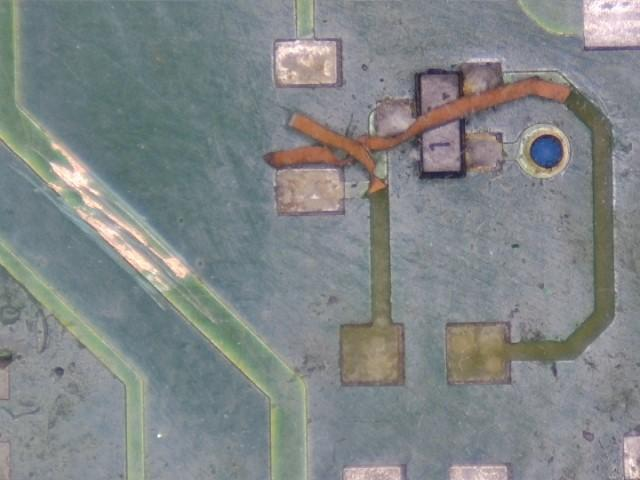pcb_defect: (261, 76, 615, 386), (289, 112, 404, 387), (76, 210, 157, 274), (50, 143, 102, 208), (108, 215, 146, 245), (149, 248, 186, 278), (48, 183, 60, 192)
